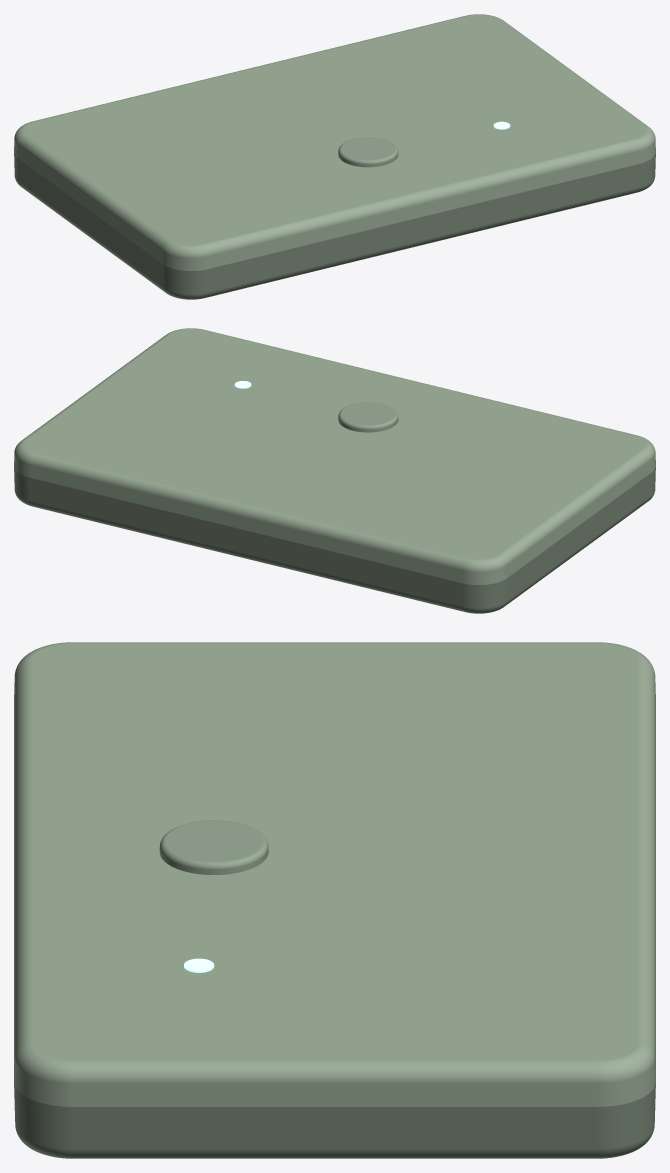
3 renders of one model, top to bottom at view 1: azimuth 30°, elevation 25°; view 2: azimuth 150°, elevation 25°; view 3: azimuth 270°, elevation 25°, orthographic. The views are drawn at different scales.
Parts seen in each view (by area): view 1: body.1, accent.1, button.1; view 2: body.1, accent.1, button.1; view 3: body.1, accent.1, button.1.
Boxes of the visible parts, box(x1,y1,x2,y2) form: body.1: box(14, 14, 655, 270); accent.1: box(14, 153, 655, 299); button.1: box(338, 137, 398, 167); body.1: box(14, 328, 655, 584); accent.1: box(14, 467, 655, 613); button.1: box(338, 402, 398, 432); body.1: box(14, 642, 655, 1106); accent.1: box(14, 1084, 655, 1158); button.1: box(159, 820, 268, 874).
Bounding box in the file's own units: 0.086 × 0.01 × 0.054.
